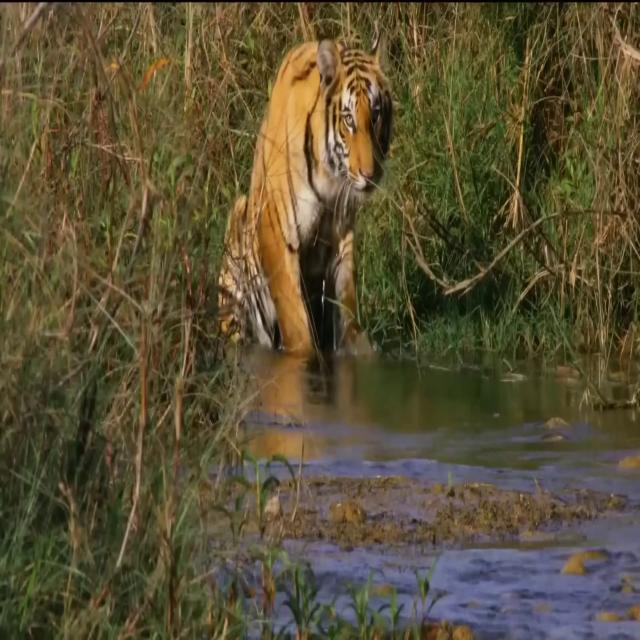tiger: (216, 28, 394, 356)
